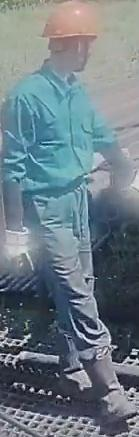gloves: (0, 222, 39, 278), (109, 171, 139, 213)
helmet: (39, 1, 101, 47)
vest: (0, 69, 105, 208)
